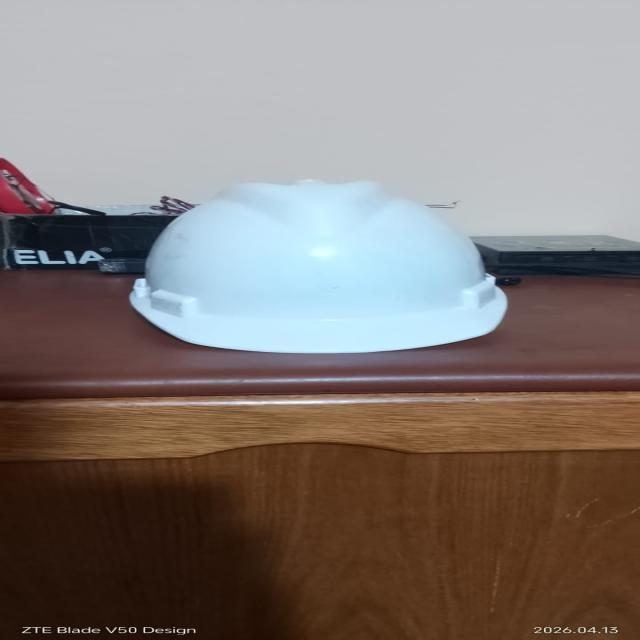casco: (116, 182, 528, 358)
